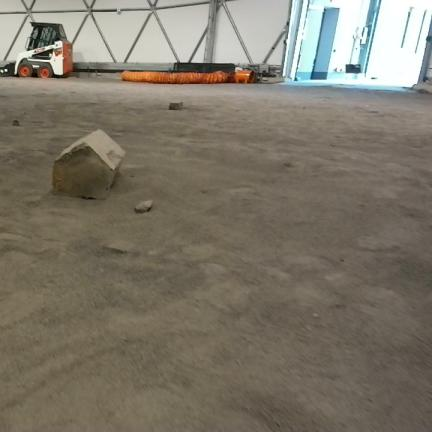Rock: (53, 130, 125, 199), (134, 200, 153, 214), (169, 102, 182, 110), (12, 120, 19, 126)
